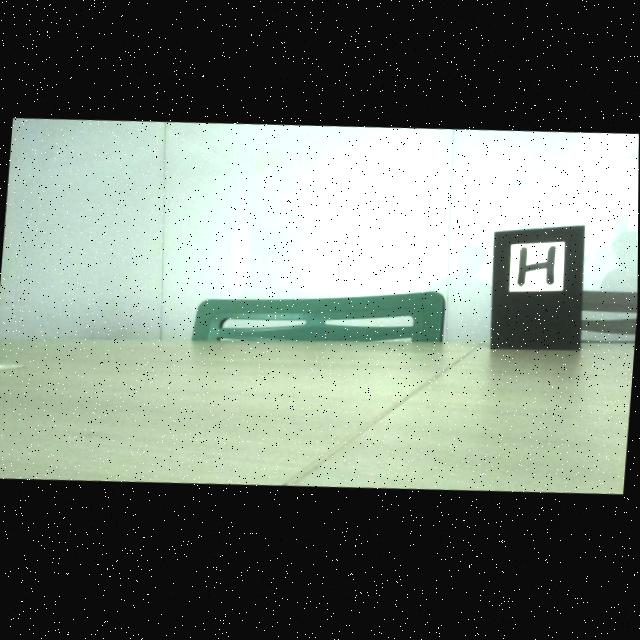H: (518, 251, 556, 290)
